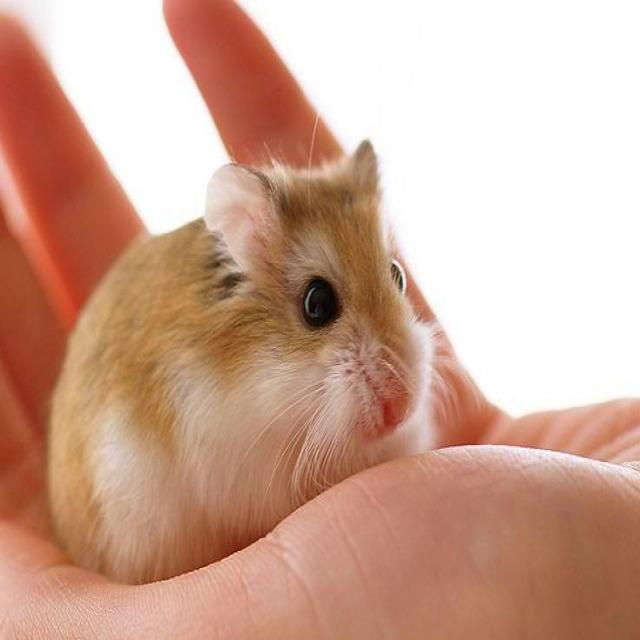hamster: (49, 140, 435, 581)
